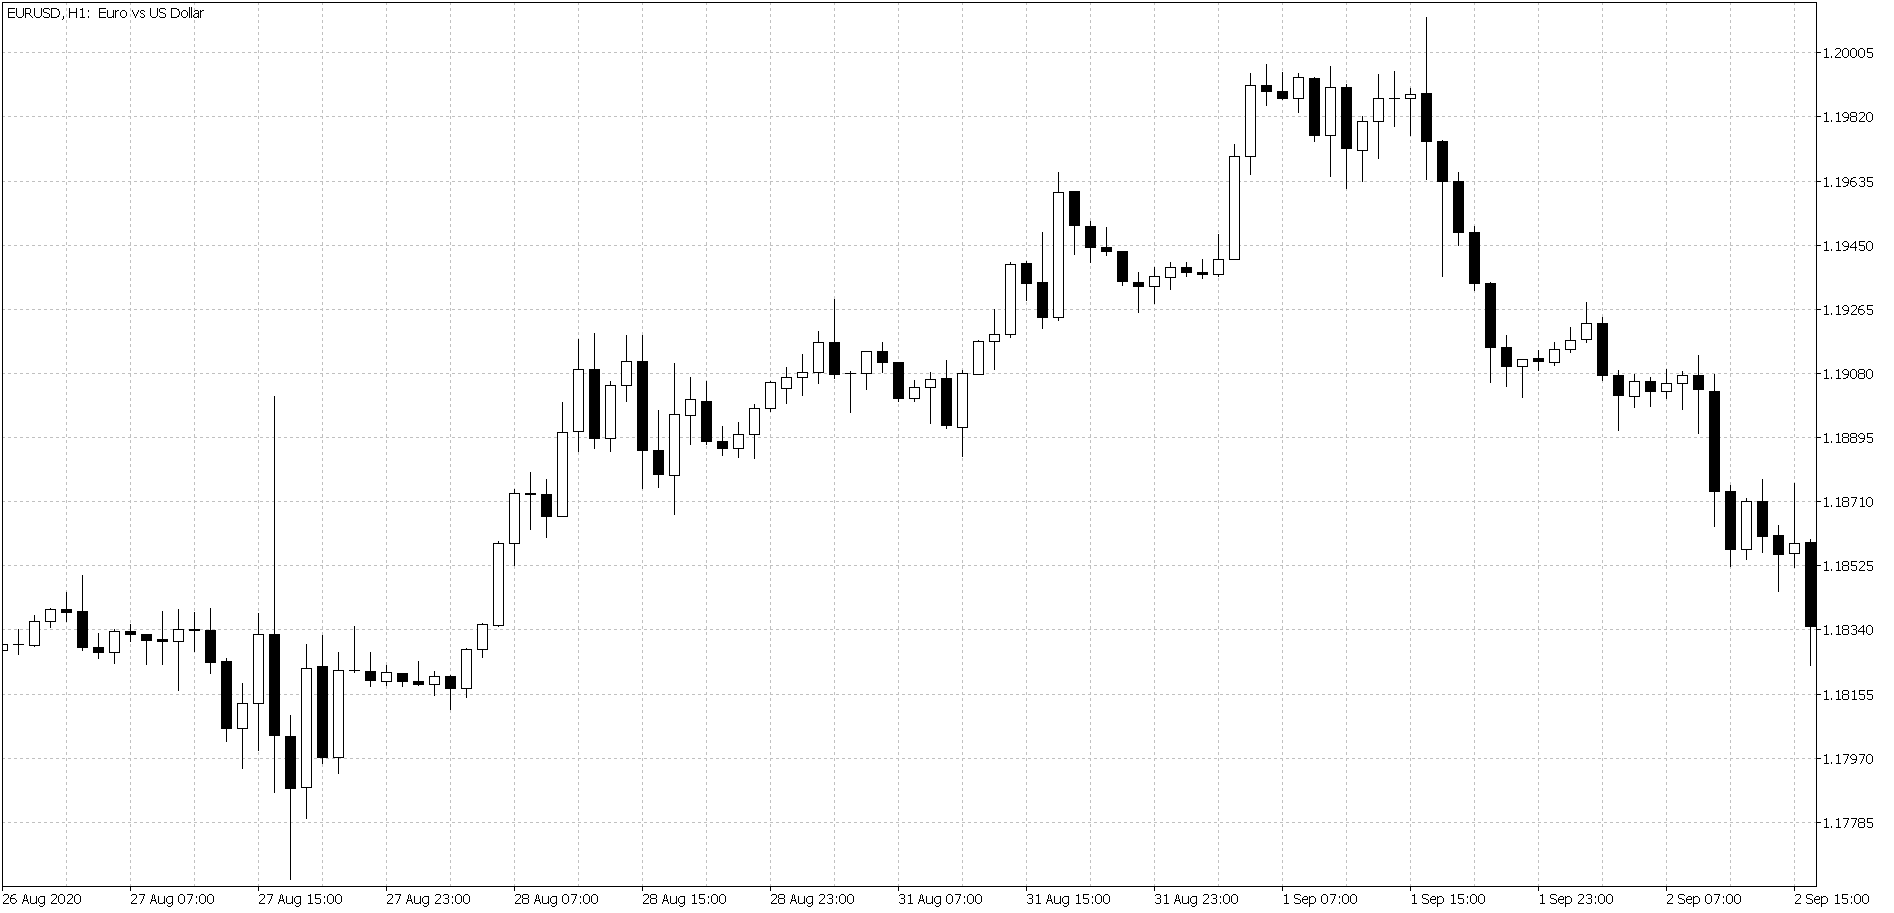3blackcrows: (1452, 168, 1498, 386)
